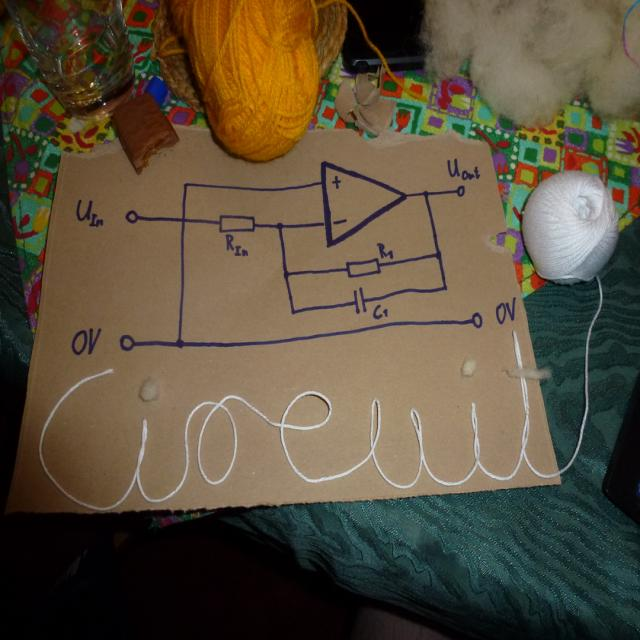capacitor: (352, 286, 368, 314)
crossover: (179, 214, 187, 224)
junction: (174, 336, 184, 350), (433, 248, 443, 261), (421, 187, 430, 199), (274, 220, 284, 230), (282, 269, 290, 280), (441, 283, 448, 292), (289, 308, 296, 316), (182, 181, 188, 188)
resistor: (217, 211, 256, 234), (344, 256, 382, 279)
terminal: (118, 332, 136, 352), (470, 310, 483, 330), (124, 208, 139, 224), (455, 184, 465, 197)
text: (70, 326, 101, 356), (74, 198, 104, 228), (446, 157, 480, 180), (224, 232, 249, 258), (494, 296, 517, 324), (376, 241, 394, 259), (371, 303, 388, 320)
